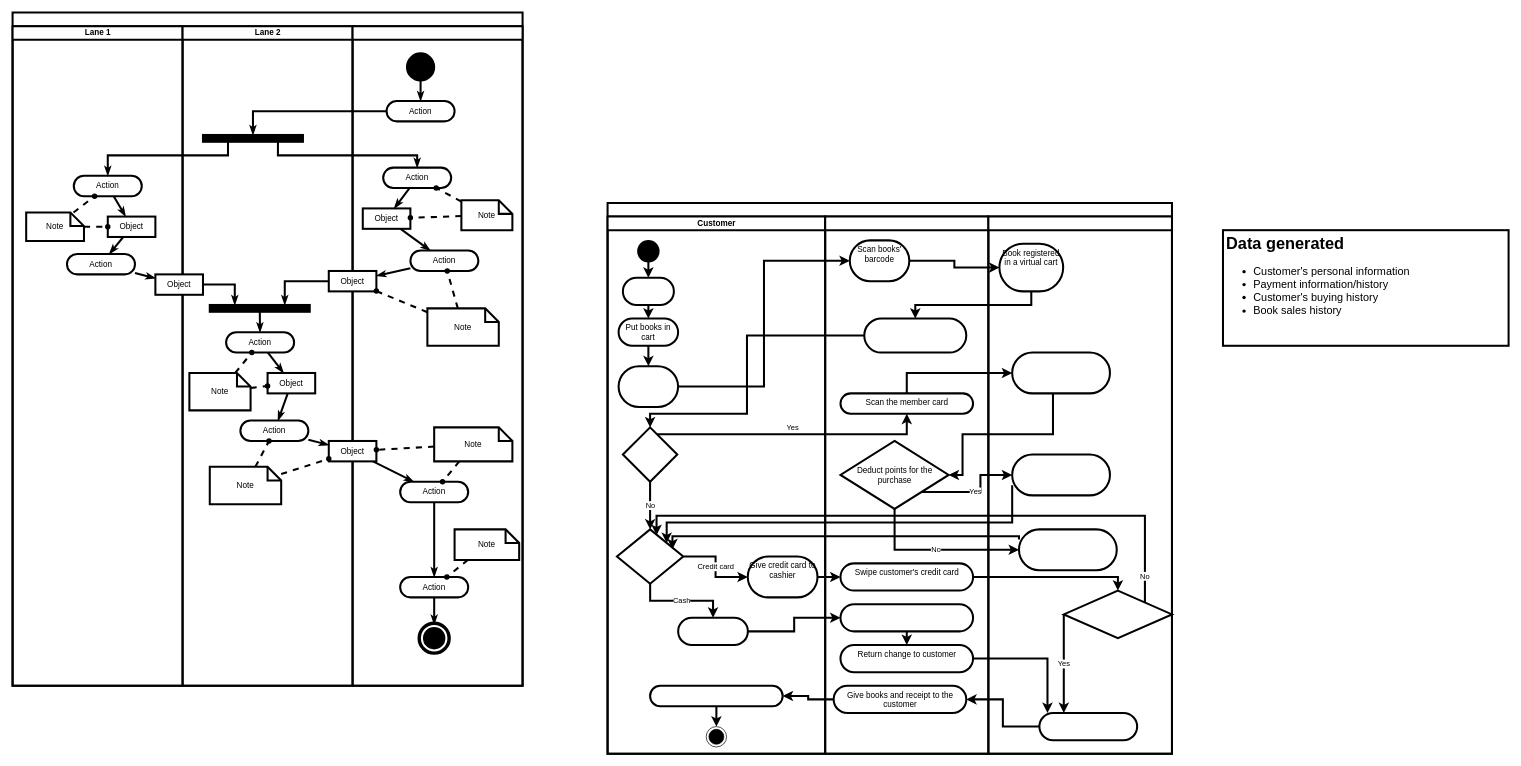
This 1521x766 diagram has some shape labels left out. Here are the shapes that lost their labels. From the top down, the box of each, then its label:
(622, 276, 675, 306): Browse books
(11, 11, 523, 686): Pool
(863, 317, 967, 353): Ask customer for membership card
(351, 25, 523, 686): Lane 3
(1011, 351, 1111, 394): Assigns the membership ID to the cart
(617, 365, 679, 408): Bring books to cashier
(622, 426, 678, 482): Has member card?
(606, 202, 1173, 754): Buy a book at a bookstore
(824, 215, 989, 754): Cashier
(1011, 453, 1111, 496): Apply number of point to be deducted
(987, 215, 1173, 754): System
(616, 528, 684, 584): Payment method?
(1018, 528, 1117, 571): Apply number of point to be added to membership
(677, 616, 749, 646): Give cash to cashier
(839, 603, 974, 632): Enter the amount of cash the customer gave
(1062, 589, 1173, 639): Transaction succeed?
(649, 684, 783, 707): Receive books
(1038, 712, 1138, 741): Change points of membership
